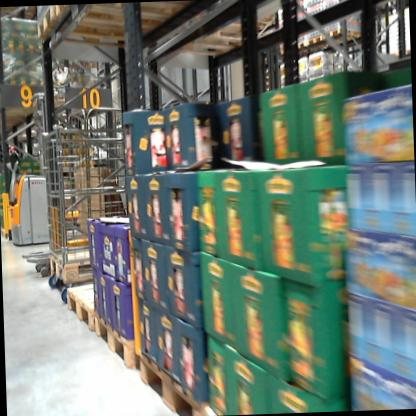pallet: (35, 2, 173, 63), (151, 9, 283, 62), (131, 338, 201, 416), (53, 2, 205, 33), (62, 277, 122, 340), (92, 308, 147, 376), (46, 251, 126, 292), (324, 25, 362, 49), (306, 33, 334, 48), (293, 39, 310, 52)
pallet_truck: (0, 88, 67, 250)
